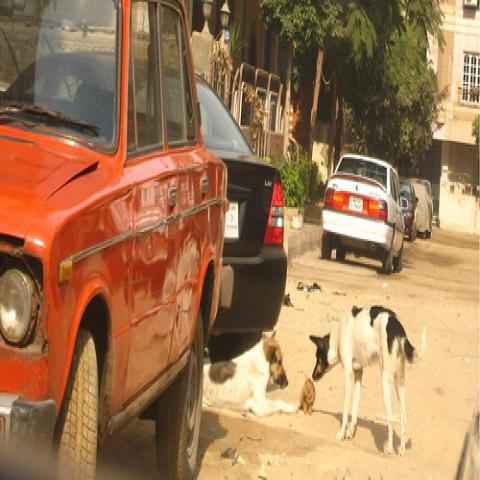car: (0, 1, 230, 475), (195, 73, 287, 362), (320, 154, 409, 275), (405, 175, 432, 239), (400, 182, 419, 242)
